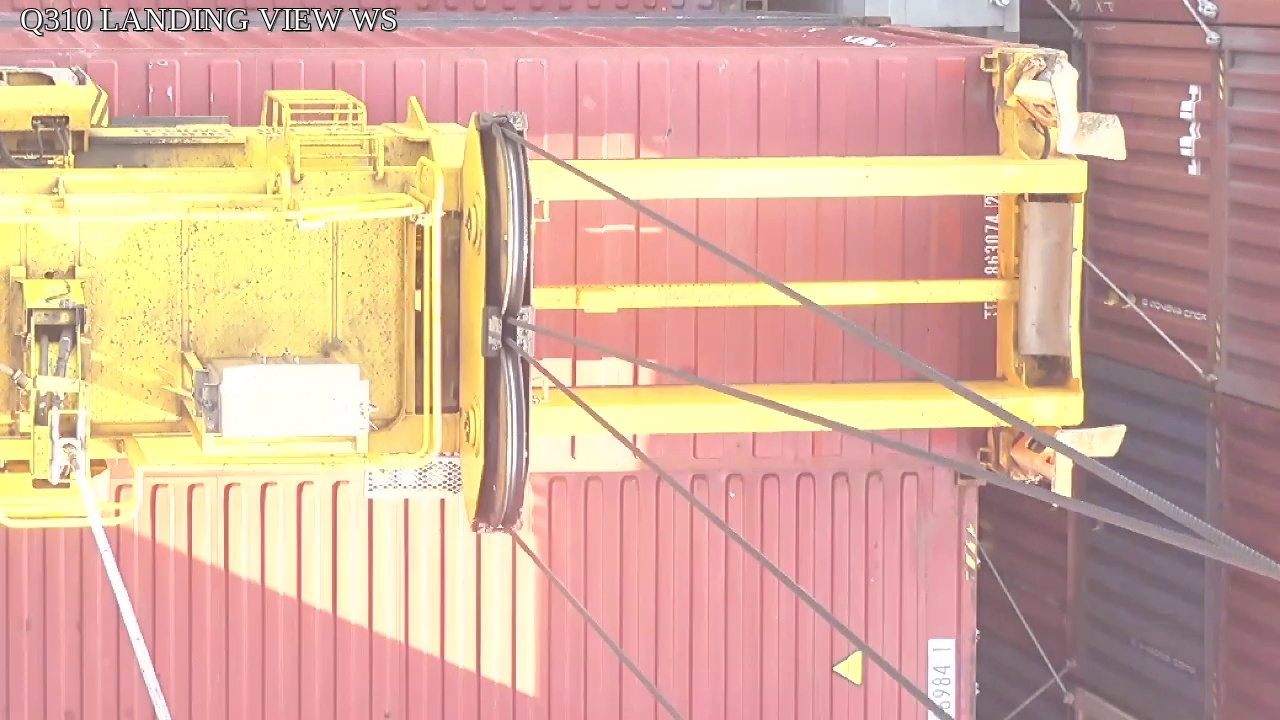right: (456, 112, 538, 534)
